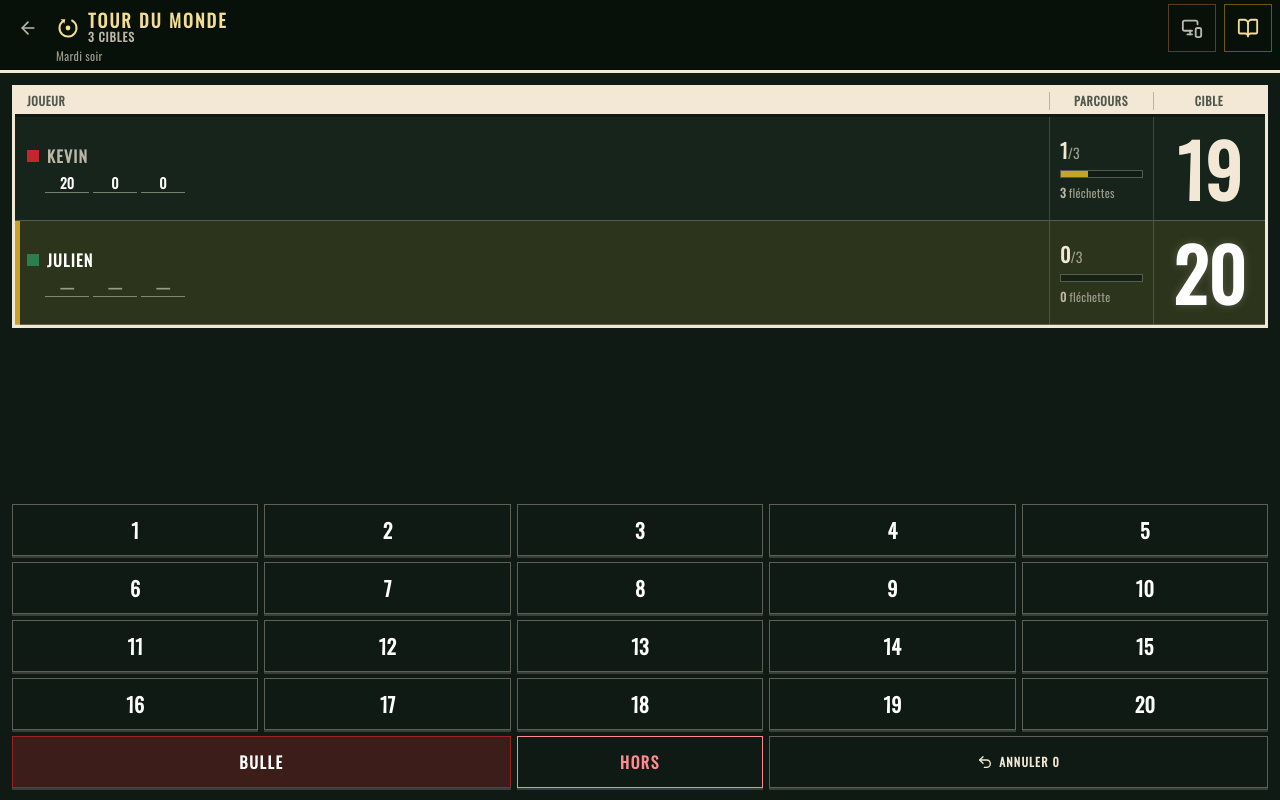
Test: Tour du monde — « Dernier tour » et la volée sur la ligne › la volée s’écrit sous le nom : la dernière du joueur, ou la volée en cours
The image size is (1280, 800).
Expected: the element named "Dernière volée de Kevin" reads "20 0 0", [45,176,185,193]
Expected: the element named "Dernière volée de Julien" reads "— — —", [45,280,185,297]
Click the button "20" at (1145, 704), box [1022,678,1268,730]
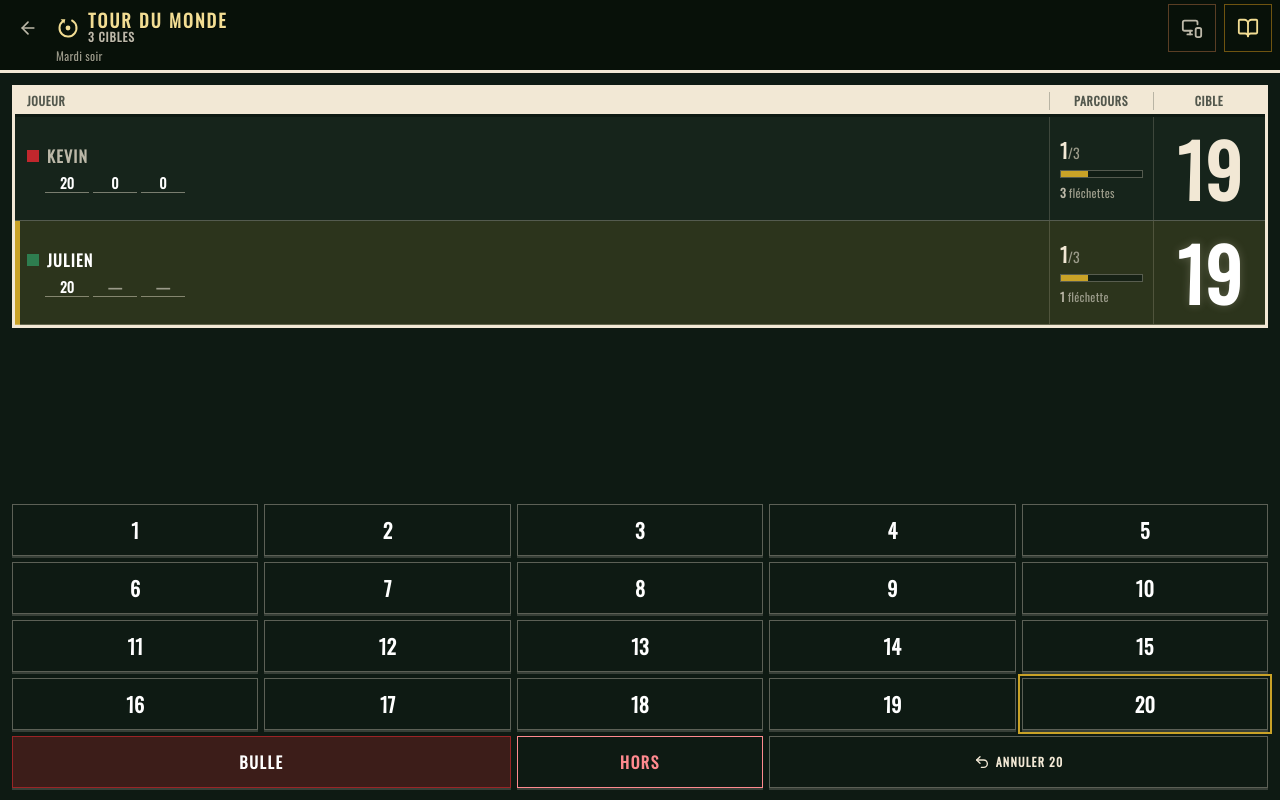
Result: the element named "Volée en cours" reads "20 — —" at [45,280,185,297]
